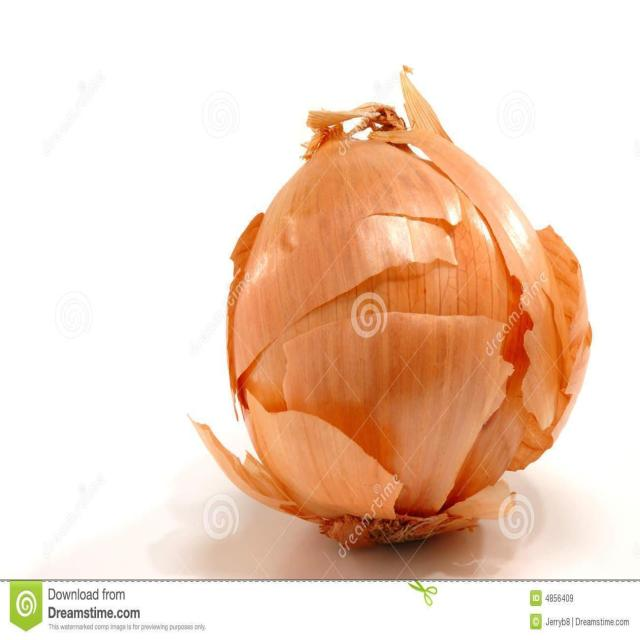Onion: (185, 61, 594, 548)
